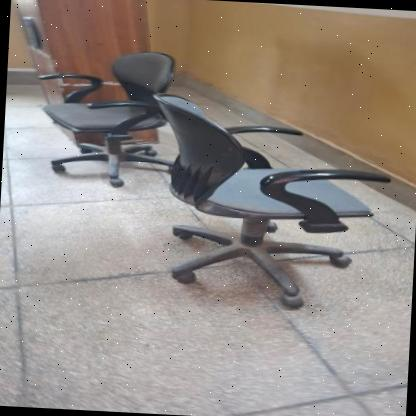chair: (126, 82, 400, 318), (28, 36, 178, 197)
